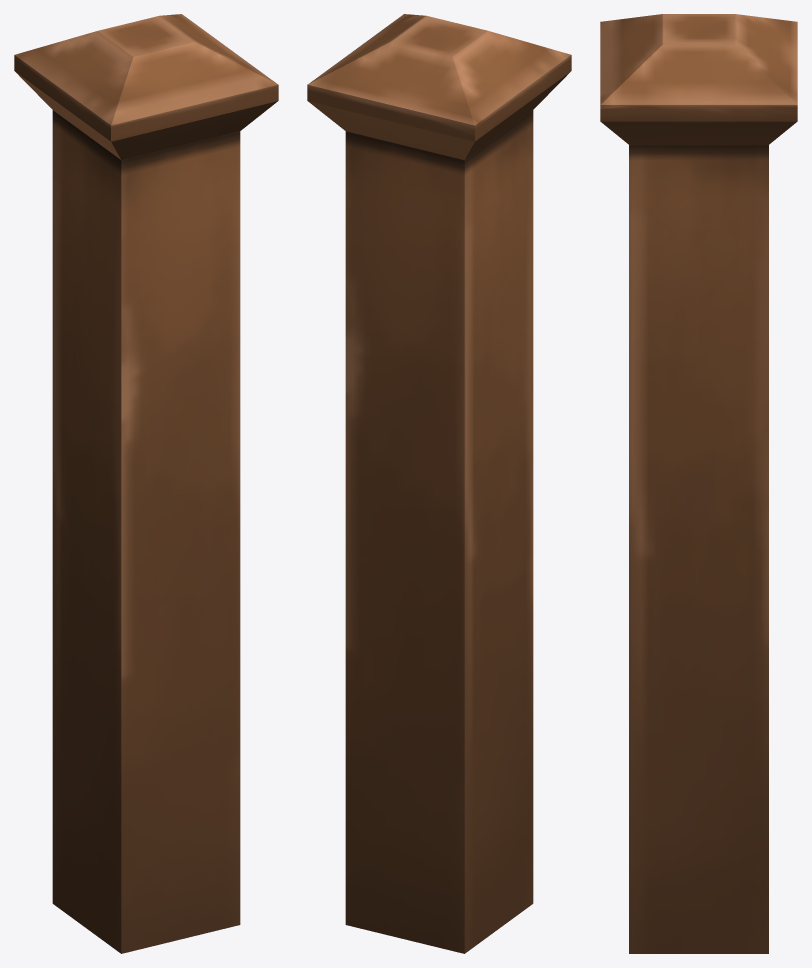
File: railingPole.fbx
3 views of the same model, side by side, from view 1: azimuth 30°, elevation 25°; view 2: azimuth 150°, elevation 25°; view 3: azimuth 270°, elevation 25° (orthographic).
Visible parts, largest first — view 1: railingPole; view 2: railingPole; view 3: railingPole.
Boxes of the visible parts, x1=… form: railingPole: x1=14, y1=14, x2=278, y2=953; railingPole: x1=307, y1=14, x2=571, y2=953; railingPole: x1=600, y1=14, x2=797, y2=953.
Bounding box in the file's own units: 24.11 × 121 × 24.11.
